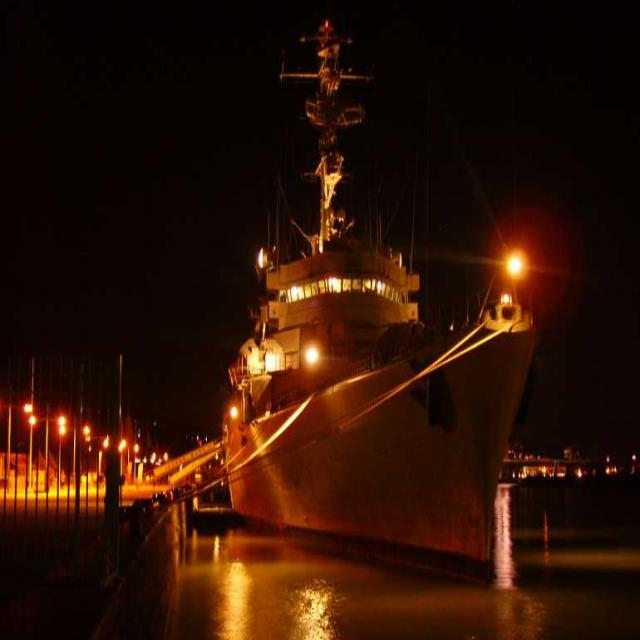Portanaves: (162, 1, 561, 589)
